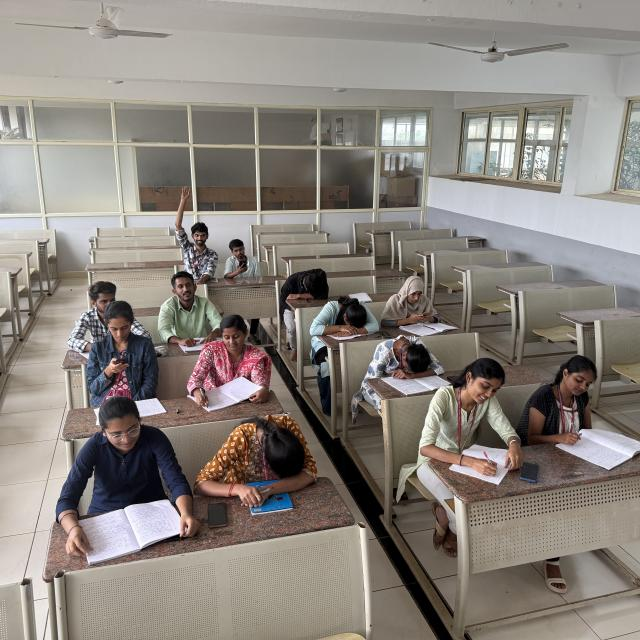Hand Rising: (172, 184, 220, 278)
Reading: (54, 385, 202, 547)
Sleeping: (182, 399, 315, 484), (358, 332, 448, 378), (308, 294, 384, 334), (271, 252, 336, 296)
Using Phone: (55, 305, 159, 396), (386, 259, 470, 325), (224, 235, 264, 276)
Writing: (519, 347, 640, 457), (432, 343, 521, 478), (182, 314, 276, 406)
